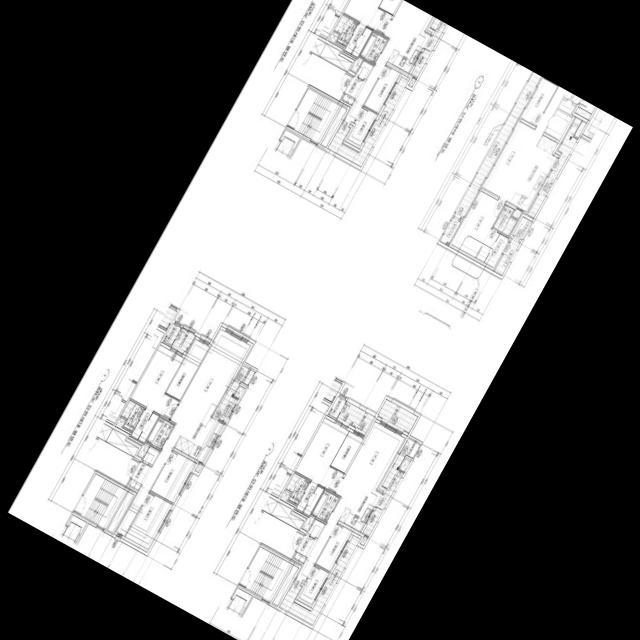background: (7, 0, 633, 640)
space_balconi: (453, 72, 540, 220), (279, 535, 360, 625), (327, 77, 408, 167), (527, 118, 581, 219), (362, 454, 404, 537), (410, 18, 447, 78), (377, 399, 418, 433), (337, 401, 374, 433), (212, 381, 239, 423), (494, 238, 520, 276), (171, 328, 195, 353)
space_bedroom: (295, 418, 348, 493), (130, 345, 183, 420), (451, 191, 504, 257), (125, 492, 172, 549), (150, 451, 195, 503), (364, 65, 400, 113), (521, 78, 557, 126), (315, 524, 351, 571), (343, 0, 392, 34), (347, 107, 377, 146), (299, 565, 328, 604)
space_dressroom: (475, 229, 509, 268), (130, 409, 158, 443), (344, 24, 372, 57), (296, 482, 323, 516)
space_front: (293, 534, 317, 564), (128, 462, 151, 491), (342, 76, 365, 105), (564, 91, 581, 104)
space_kitchen: (506, 136, 558, 212), (174, 409, 224, 463), (338, 481, 382, 532), (387, 23, 430, 73)
space_living_room: (116, 329, 250, 536), (297, 422, 404, 581), (345, 0, 432, 123), (482, 86, 566, 201)
space_multipurpose_space: (165, 339, 209, 400), (330, 432, 363, 473), (379, 0, 401, 15)
space_other: (320, 106, 347, 148), (272, 565, 298, 606), (107, 492, 133, 533), (319, 43, 352, 72), (270, 502, 303, 530), (105, 429, 138, 457), (544, 109, 572, 141), (512, 217, 532, 240), (400, 438, 419, 458), (235, 365, 254, 385), (307, 519, 324, 538), (142, 446, 159, 465), (356, 61, 373, 80), (558, 99, 575, 115), (574, 107, 591, 120), (574, 121, 586, 138), (351, 57, 363, 72), (303, 516, 314, 530), (138, 443, 149, 457), (399, 459, 410, 472), (280, 490, 290, 501), (115, 417, 125, 428), (511, 209, 521, 219), (329, 32, 339, 42), (234, 387, 243, 398), (359, 536, 367, 546), (408, 78, 416, 87), (195, 463, 202, 471)
space_outdoor_room: (440, 218, 460, 246), (328, 396, 346, 419), (163, 324, 180, 345)
space_staircase: (287, 88, 340, 144), (239, 547, 291, 602), (74, 474, 126, 529)
space_toilet: (145, 417, 174, 450), (311, 490, 339, 523), (359, 31, 387, 64), (285, 473, 310, 505), (120, 400, 144, 432), (492, 205, 516, 236), (334, 15, 358, 46)
